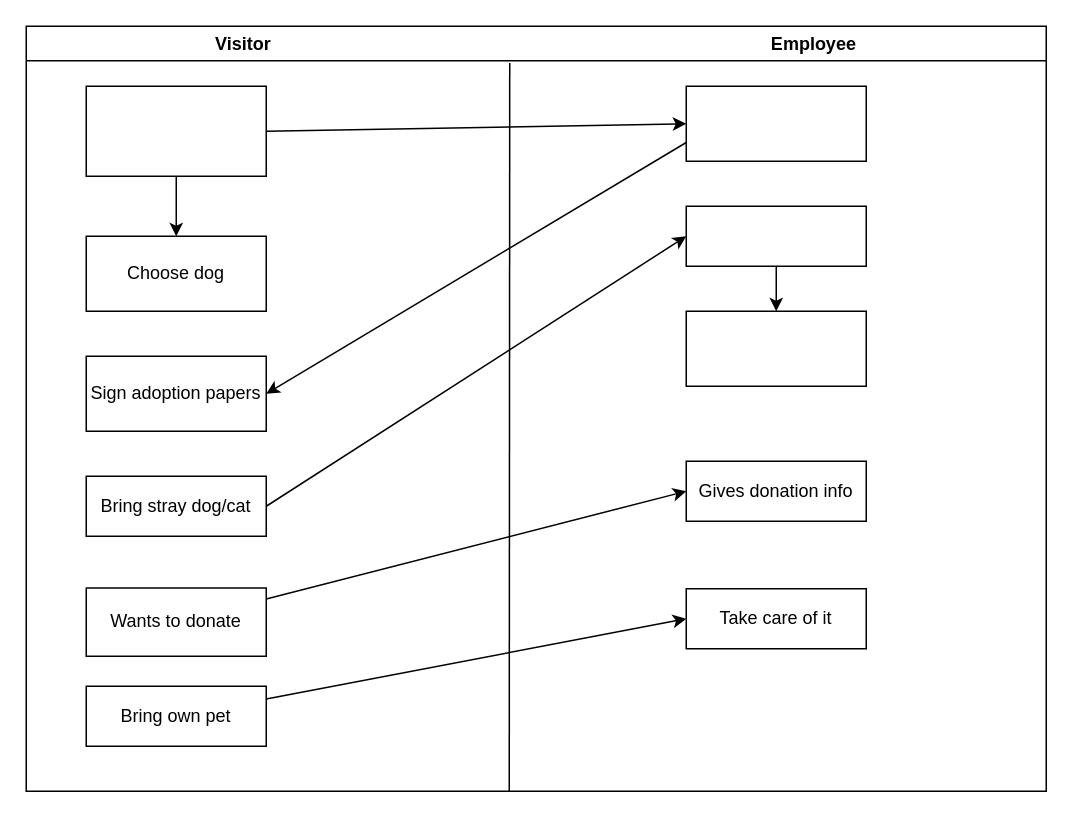
The diagram is 1073 pixels wide and 819 high, and some of its shapes have lost their labels. The shapes that lost their labels are listed below. From the top down, each one's box as (x1, y1, x2, y2) in pixels, then its label:
(85, 85, 266, 176): Wants to adopt
(685, 85, 866, 161): Prepare the adoption papers
(685, 205, 866, 266): Prepares medical paper
(685, 310, 866, 386): The vet takes care of it
